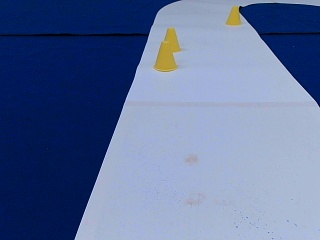cone: (153, 40, 177, 71), (163, 28, 180, 51), (225, 6, 241, 25)
